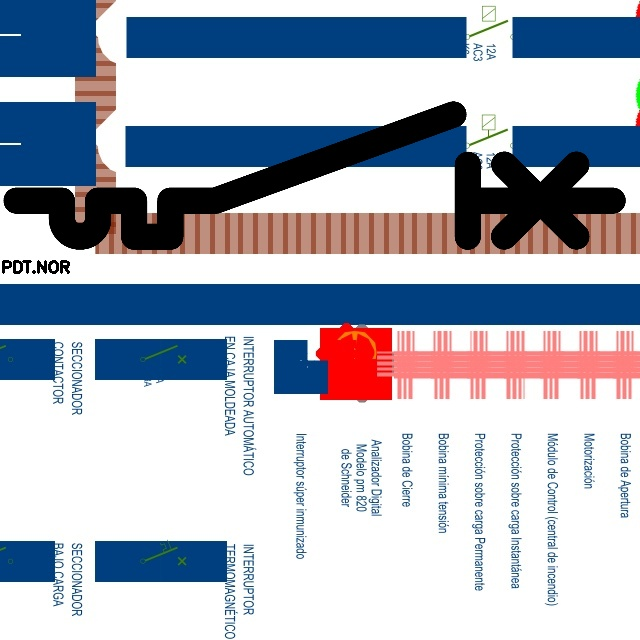interruptor_termomagnetico: (1, 99, 628, 252)
